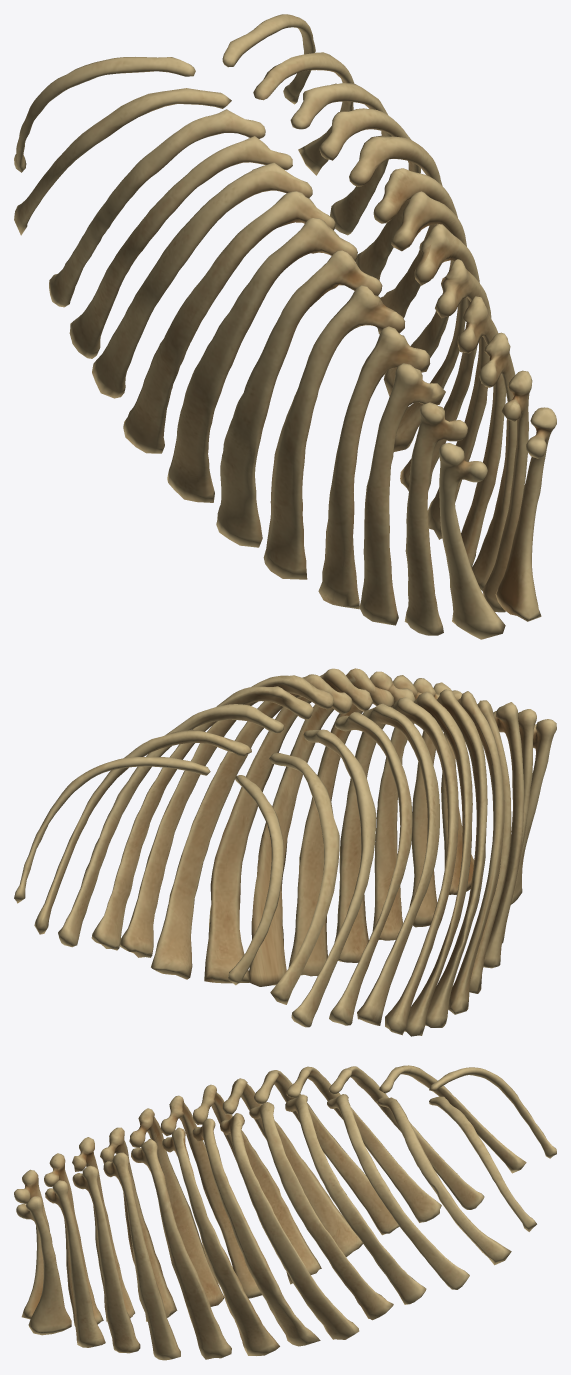
The model's file is Ribs.glb.
3 renders of one model, top to bottom at view 1: azimuth 30°, elevation 25°; view 2: azimuth 150°, elevation 25°; view 3: azimuth 270°, elevation 25°, orthographic. The views are drawn at different scales.
Visible parts, largest first — view 1: polySurface742.002; view 2: polySurface742.002; view 3: polySurface742.002.
Part boxes in pixels (x1,y1,x2,y2): polySurface742.002: (14, 14, 556, 639); polySurface742.002: (14, 668, 556, 1036); polySurface742.002: (14, 1065, 556, 1360).
Bounding box in the file's own units: 223 × 268 × 507.
Materials: 1 (1 with a texture image).
